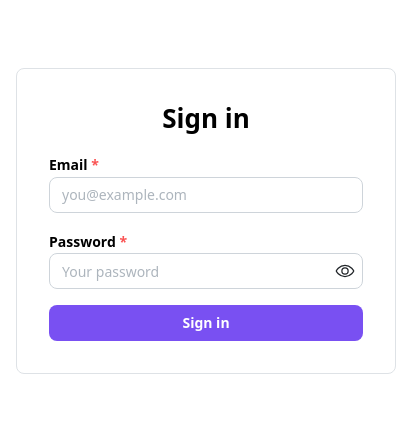
Test: LoginPage › shows an error message when login fails
Step 1. Type "admin@example.com" into the field with placeholder "you@example.com" → (206, 194), box [49,176,363,212]
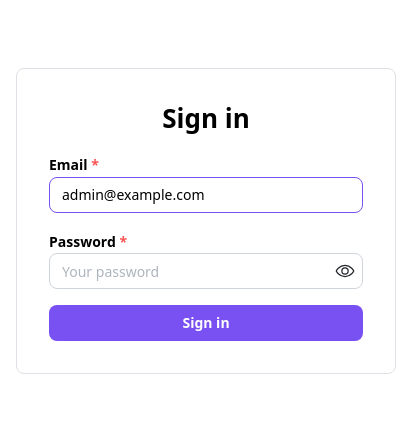
Step 2. Type "wrong" into the password field with placeholder "Your password" → (206, 271), box [50,254,362,288]
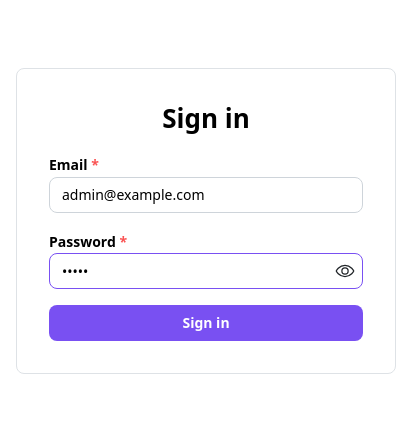
Step 3. Click the button "Sign in" → (206, 323), box [49,305,363,341]
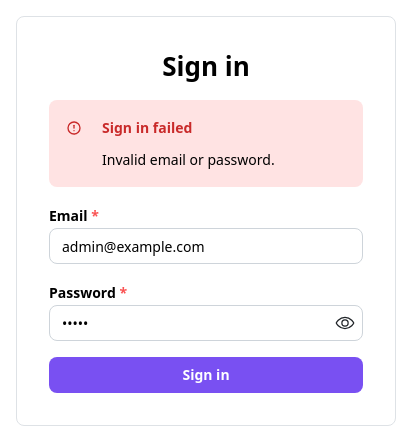
Expected: the text "Invalid email or password." is shown, [102,150,275,169]
